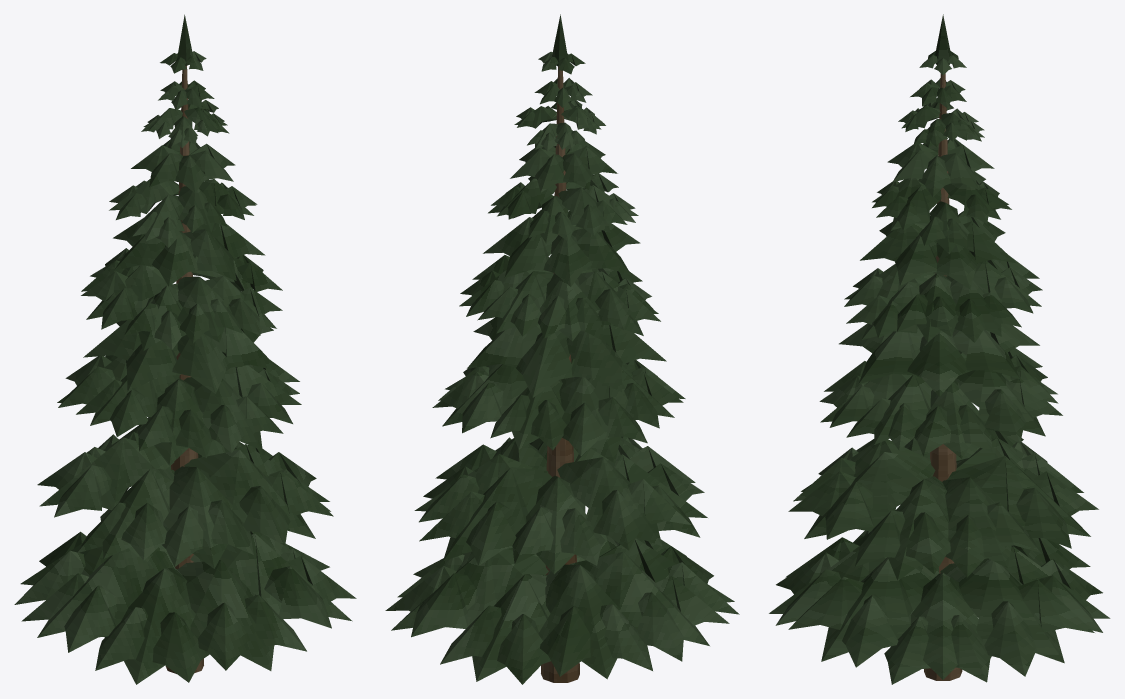
The model's file is tree_03.glb.
3 renders of one model, left to right at view 1: azimuth 30°, elevation 25°; view 2: azimuth 150°, elevation 25°; view 3: azimuth 270°, elevation 25°, orthographic.
Parts seen in each view (by area): view 1: tree_03; view 2: tree_03; view 3: tree_03.
Boxes of the visible parts, x1,y1,x2,y2 form: tree_03: (14,14,356,684); tree_03: (385,14,739,684); tree_03: (769,14,1110,684).
Bounding box in the file's own units: 3.2 × 6.8 × 3.2.
2 materials, 2 textured.
